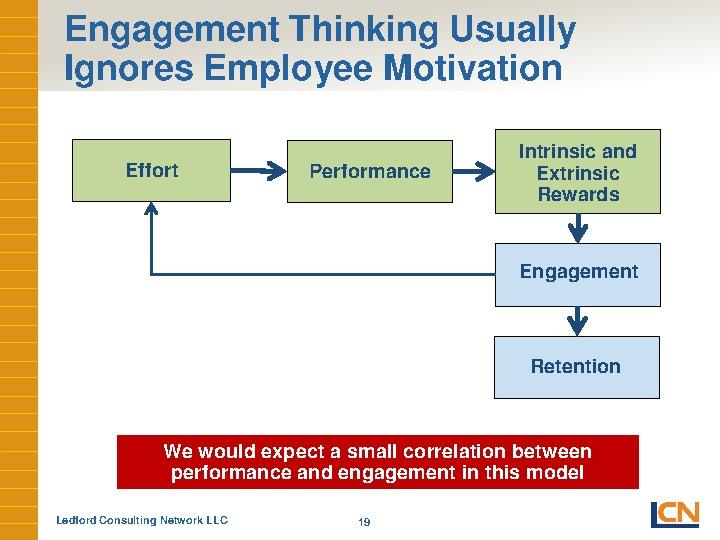title: (60, 7, 583, 88)
